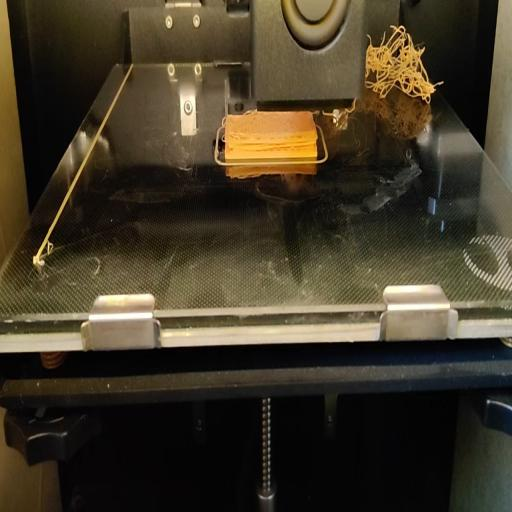spaghetti: (367, 22, 442, 101), (323, 105, 358, 118)
